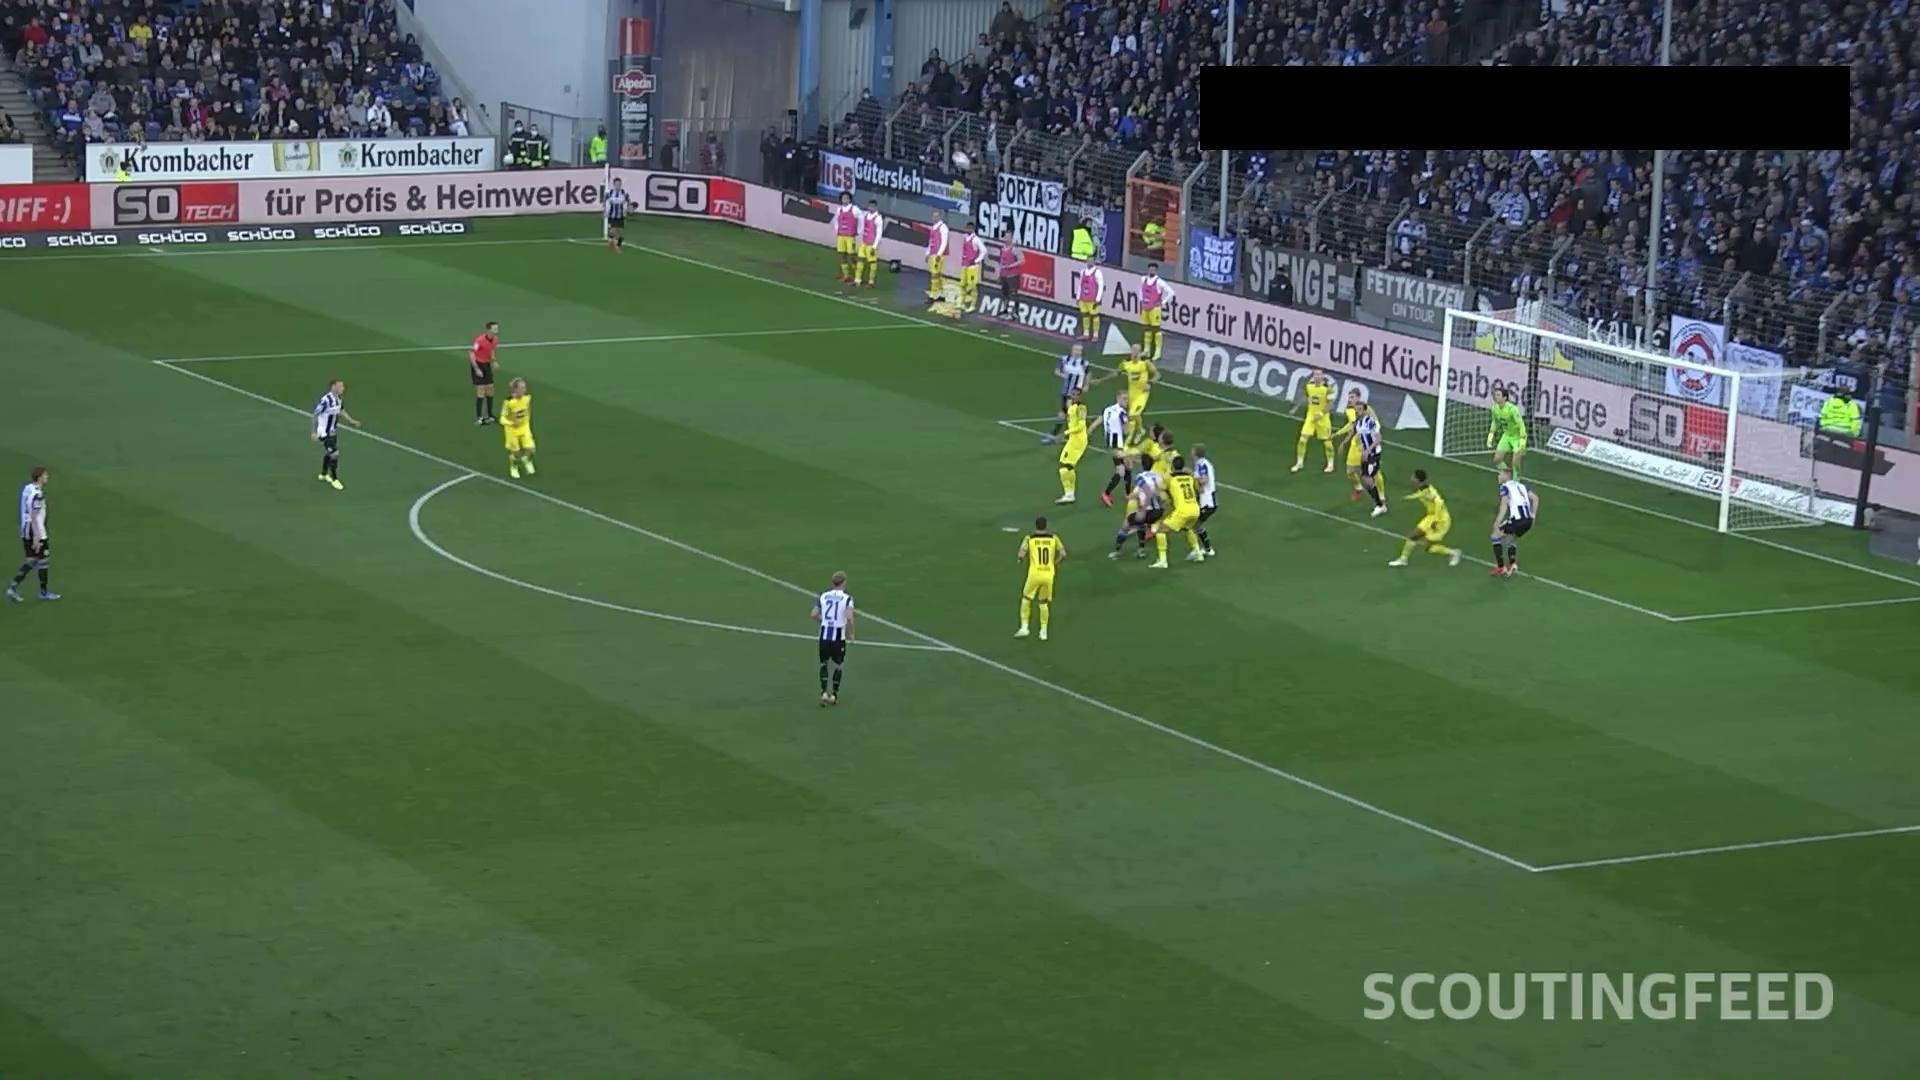Location-of-ball: (931, 137, 977, 187)
